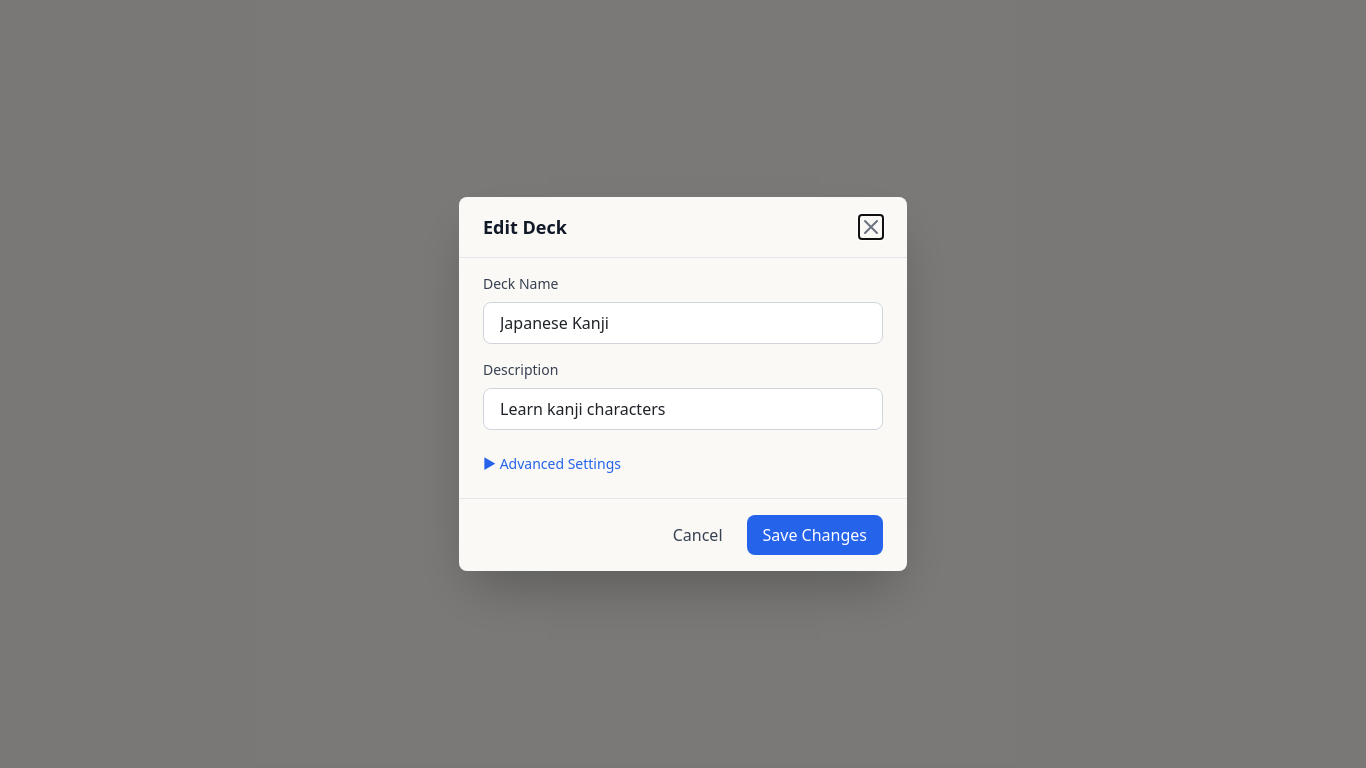
Test: EditDeckModal › populates advanced settings with deck values
The image size is (1366, 768).
Step 1. Click the button "▶ Advanced Settings" → click(552, 464), box 483,446 -> 621,482
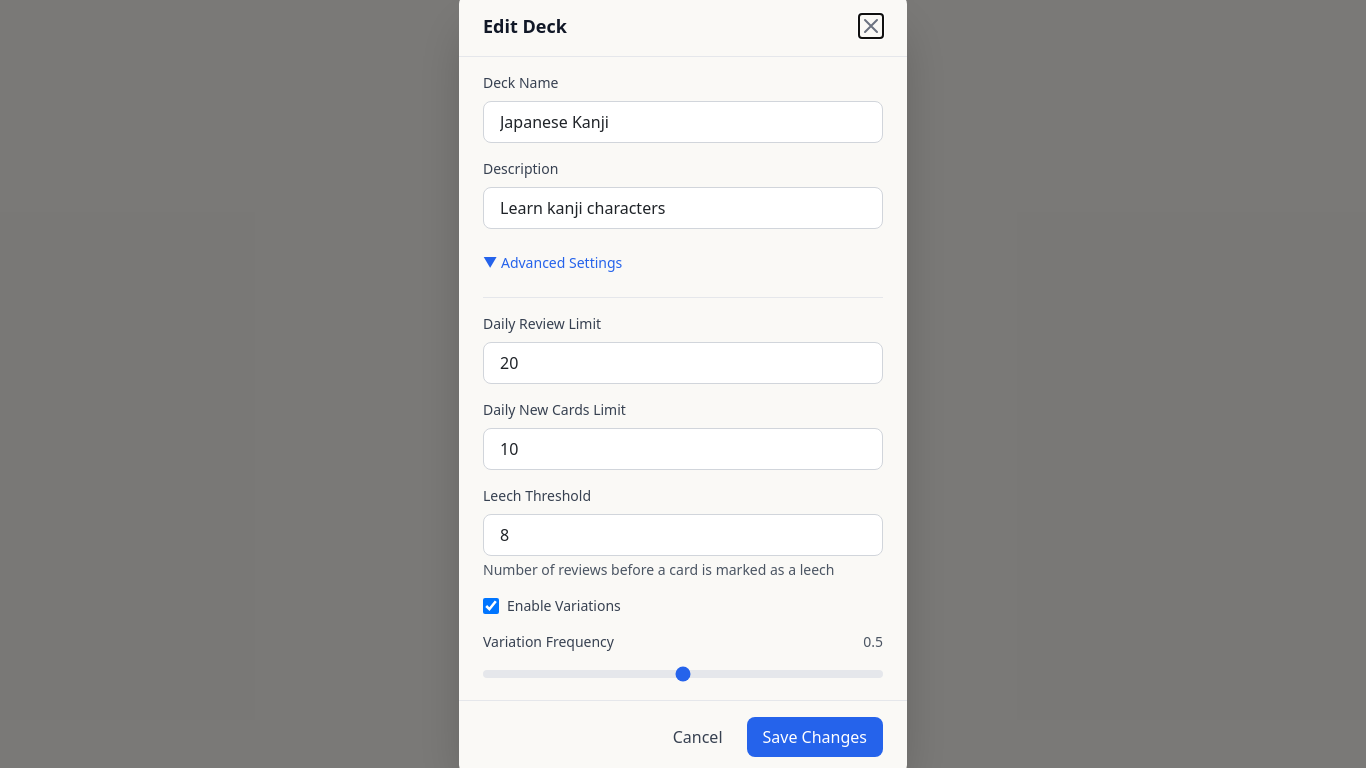
Result: the number field labelled "Daily Review Limit" holds "20" at 483,342 -> 883,384
Result: the number field labelled "Daily New Cards Limit" holds "10" at 483,428 -> 883,470
Result: the number field labelled "Leech Threshold" holds "8" at 483,514 -> 883,556
